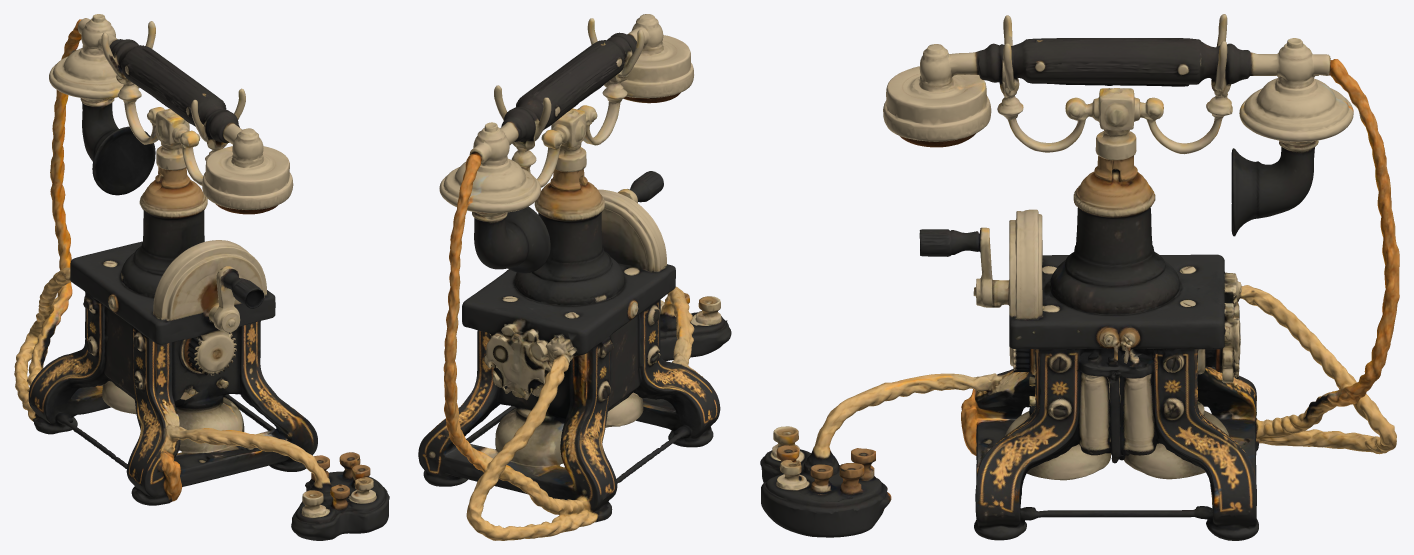
File: telefono_antiguo.fbx
3 renders of one model, left to right at view 1: azimuth 30°, elevation 25°; view 2: azimuth 150°, elevation 25°; view 3: azimuth 270°, elevation 25°, orthographic. The views are drawn at different scales.
Parts seen in each view (by area): view 1: tripo_node_a2ee381b; view 2: tripo_node_a2ee381b; view 3: tripo_node_a2ee381b.
Boxes of the visible parts, x1,y1,x2,y2 form: tripo_node_a2ee381b: (14,14,389,540); tripo_node_a2ee381b: (418,14,731,540); tripo_node_a2ee381b: (760,14,1399,540).
Bounding box in the file's own units: 0.3842 × 0.8033 × 1.
Materials: 1 (1 with a texture image).
